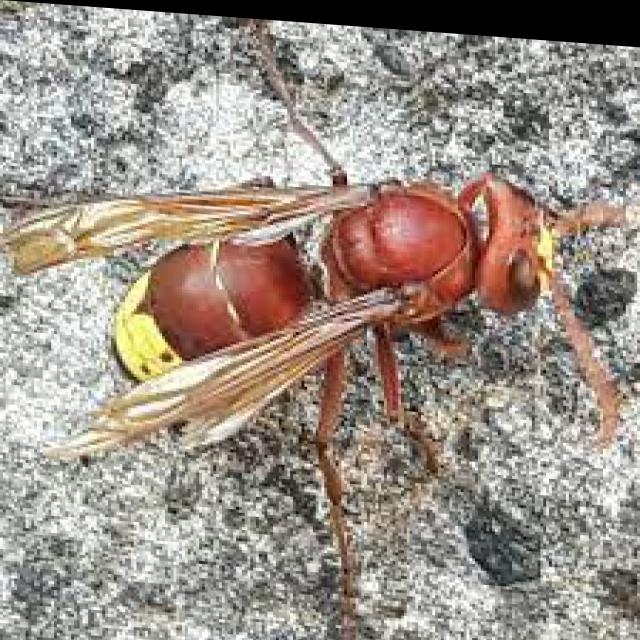Vespa Orientalis: (0, 102, 638, 639)
